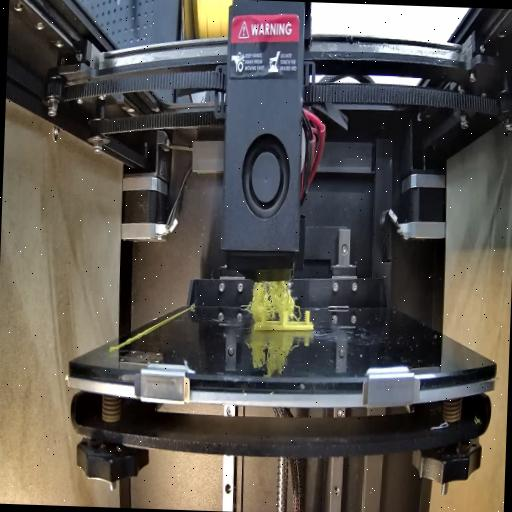spaghetti: (246, 280, 300, 320)
